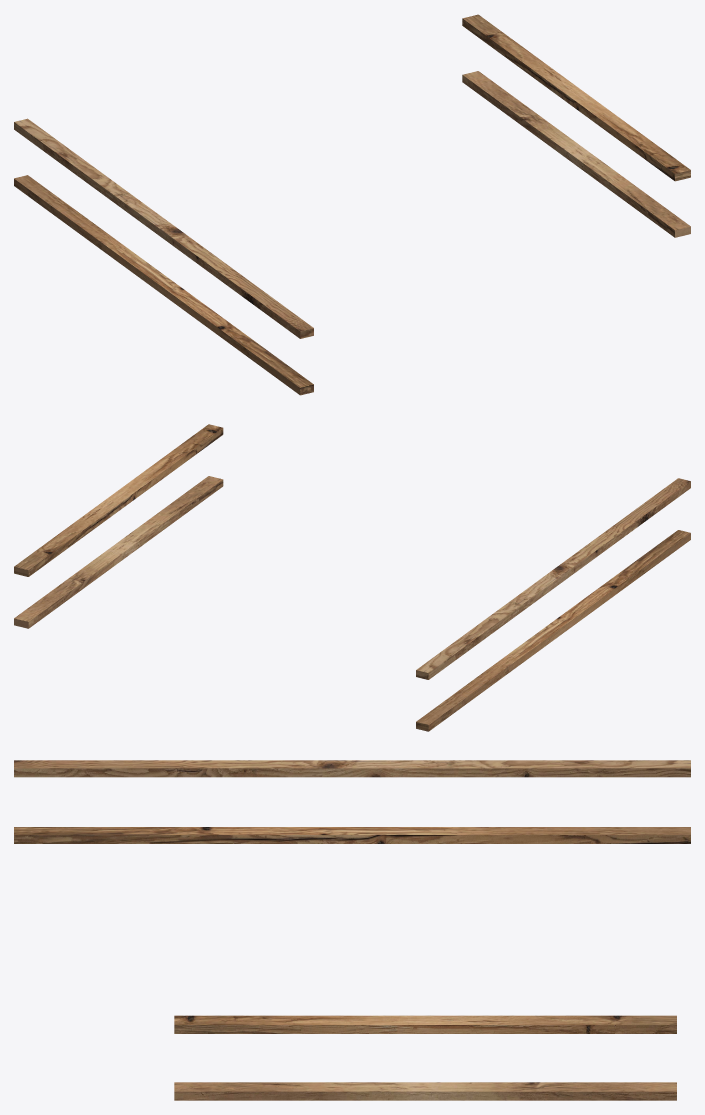
File: tavern_171.gltf
3 renders of one model, top to bottom at view 1: azimuth 30°, elevation 25°; view 2: azimuth 150°, elevation 25°; view 3: azimuth 270°, elevation 25°, orthographic. The views are drawn at different scales.
Parts seen in each view (by area): view 1: Box123_Material #170_0.007; view 2: Box123_Material #170_0.007; view 3: Box123_Material #170_0.007.
Boxes of the visible parts, <box> form: Box123_Material #170_0.007: <box>14,14,690,395</box>; Box123_Material #170_0.007: <box>14,424,690,731</box>; Box123_Material #170_0.007: <box>14,760,690,1100</box>.
Size of the model in its own units: 117 by 15.59 by 127.
